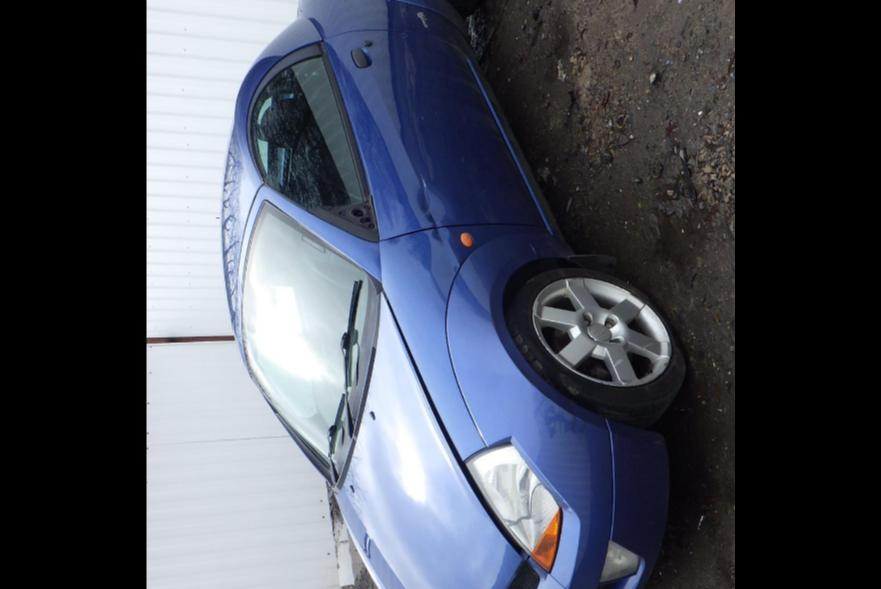Broken part: (382, 284, 530, 561), (464, 442, 563, 572)
Dent: (417, 187, 445, 222), (382, 198, 400, 230), (431, 227, 448, 241), (388, 236, 400, 241), (420, 115, 424, 120)
Flaking: (398, 2, 417, 116), (411, 105, 432, 182)
Missing part: (319, 194, 376, 231)
Scratch: (416, 11, 430, 29), (418, 170, 428, 187), (530, 244, 536, 255)
